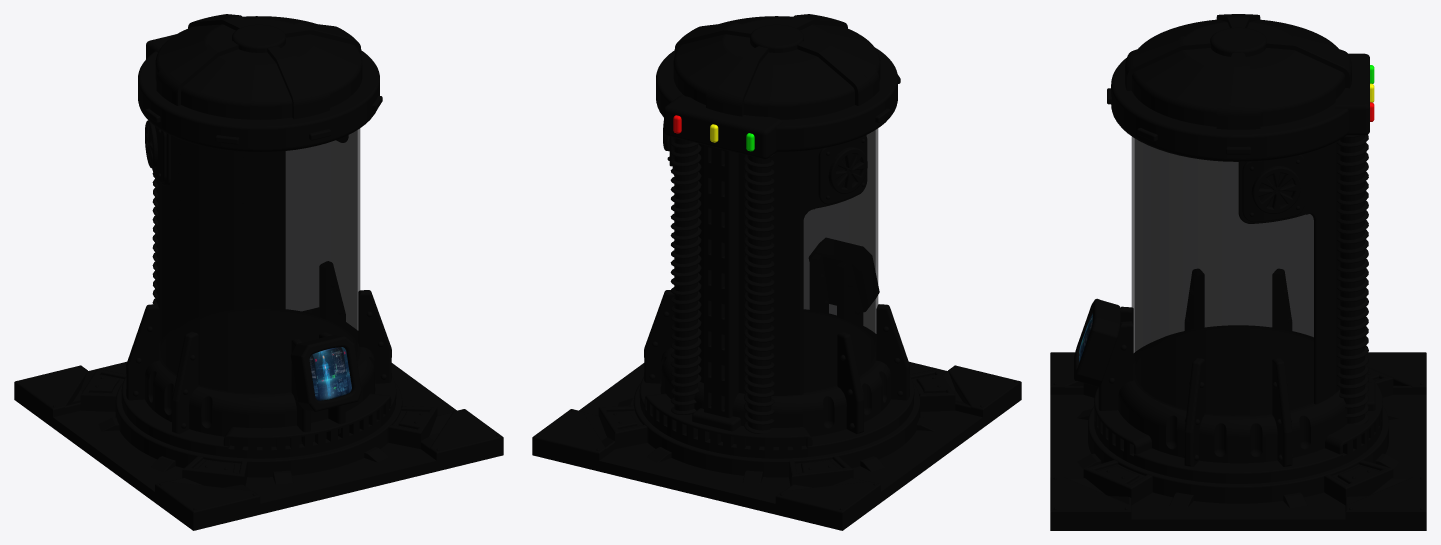
Rendered from INCUBATEUR_KATY_PERRY.fbx.
3 views of the same model, side by side, from view 1: azimuth 30°, elevation 25°; view 2: azimuth 150°, elevation 25°; view 3: azimuth 270°, elevation 25° (orthographic). The views are drawn at different scales.
Visible parts, largest first — view 1: Layer 01, Object_49, Object_93, Object_133, Object_70, Object_71, Object_30, Object_33, Object_35, Object_36, Object_10, Object_9 (+17 smaller); view 2: Object_133, Layer 01, Object_70, Object_49, Object_6, Object_93, Object_71, Object_73, Object_30, Object_33, Object_75, Object_55 (+24 smaller); view 3: Layer 01, Object_93, Object_133, Object_70, Object_71, Object_49, Object_33, Object_30, Object_75, Object_74, Object_36, Object_9 (+22 smaller).
Part boxes in pixels (x1,y1,x2,y2): Layer 01: [157, 129, 360, 394]; Object_49: [158, 133, 347, 340]; Object_93: [145, 309, 375, 436]; Object_133: [14, 361, 503, 530]; Object_70: [155, 16, 362, 119]; Object_71: [138, 50, 379, 152]; Object_30: [115, 383, 402, 477]; Object_33: [121, 376, 396, 458]; Object_35: [223, 393, 391, 447]; Object_36: [290, 334, 361, 411]; Object_10: [155, 481, 260, 519]; Object_9: [430, 409, 503, 460]; Object_133: [532, 361, 1021, 530]; Layer 01: [803, 128, 878, 392]; Object_70: [673, 16, 880, 119]; Object_49: [672, 135, 866, 395]; Object_6: [704, 145, 738, 417]; Object_93: [660, 310, 891, 436]; Object_71: [656, 47, 897, 152]; Object_73: [744, 153, 774, 433]; Object_30: [633, 383, 920, 477]; Object_33: [639, 376, 914, 458]; Object_75: [670, 137, 701, 414]; Object_55: [664, 95, 782, 159]; Layer 01: [1131, 137, 1313, 416]; Object_93: [1118, 326, 1347, 463]; Object_133: [1050, 394, 1426, 530]; Object_70: [1131, 19, 1345, 126]; Object_71: [1111, 58, 1348, 161]; Object_49: [1238, 140, 1339, 404]; Object_33: [1094, 415, 1382, 483]; Object_30: [1088, 406, 1388, 503]; Object_75: [1337, 135, 1368, 425]; Object_74: [1340, 135, 1365, 423]; Object_36: [1074, 298, 1120, 386]; Object_9: [1050, 477, 1131, 519].
Bounding box in the file's own units: 10 × 10 × 12.1.
6 materials, 1 textured.
